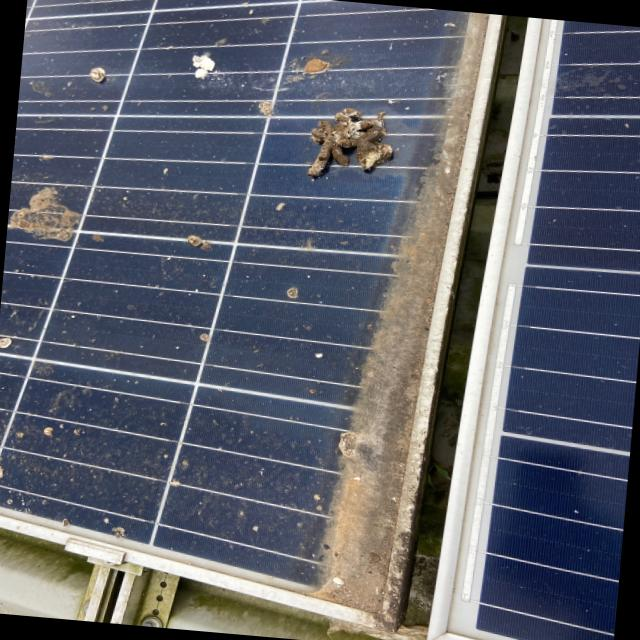faulty: (0, 0, 481, 605), (472, 25, 640, 640)
